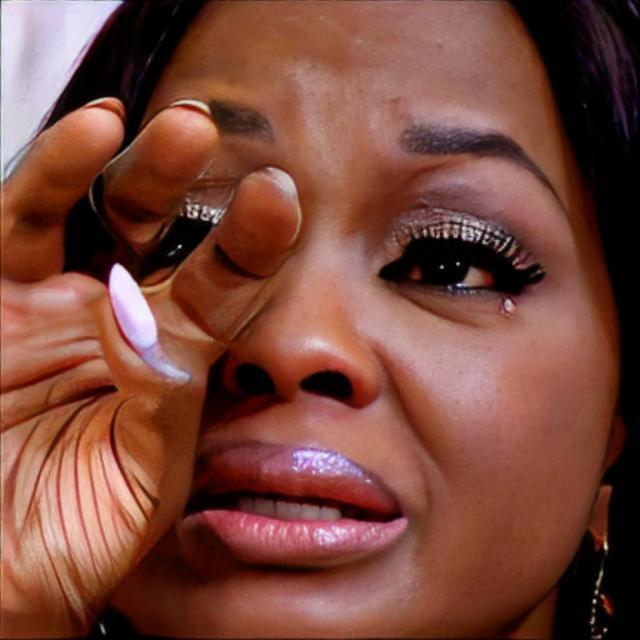sad: (126, 0, 620, 640)
